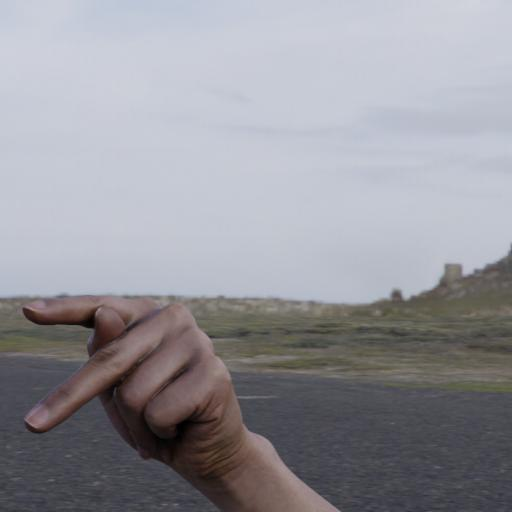P: (13, 282, 264, 494)
